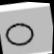no answer: (1, 18, 37, 51)
